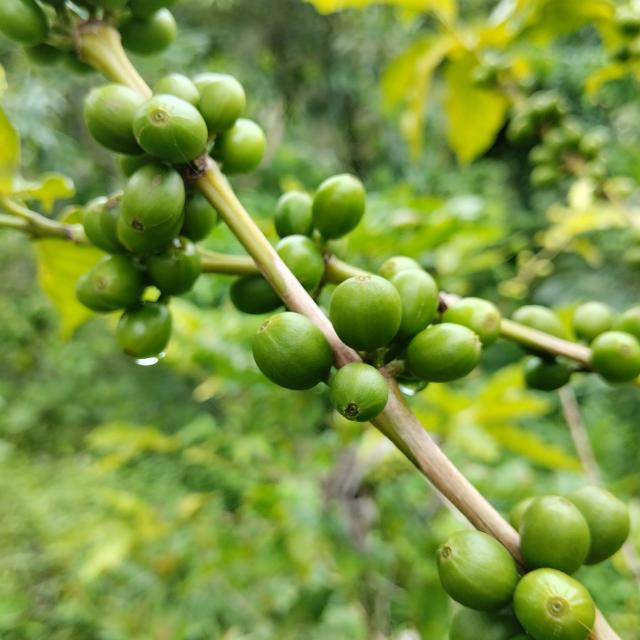green: (437, 531, 520, 612), (252, 312, 333, 390), (514, 569, 596, 640), (520, 496, 592, 575), (329, 275, 402, 352), (132, 93, 208, 163), (120, 162, 185, 235), (406, 323, 482, 383), (390, 269, 439, 343), (312, 173, 366, 239), (330, 362, 389, 422), (210, 118, 266, 174), (442, 297, 502, 348), (275, 234, 325, 293), (198, 76, 246, 132)
